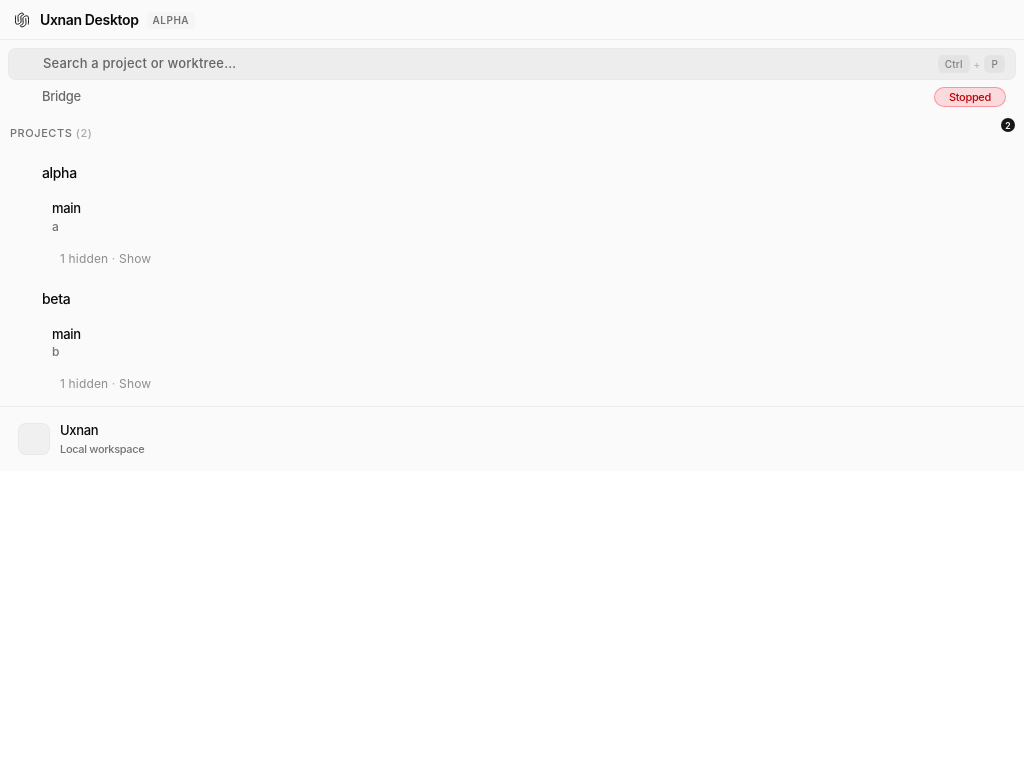
it: LeftSidebar — hidden worktrees › sets aside a worktree created outside Uxnan the same way, and shows it on request
This screenshot has width=1024, height=768.
Expected: the text "old" is not shown
Expected: the text "older" is not shown
# The per-project line is the same switch, with the same words.
Click the 1st button "1 hidden · Show".
click(86, 258)  # box [18, 246, 1010, 270]
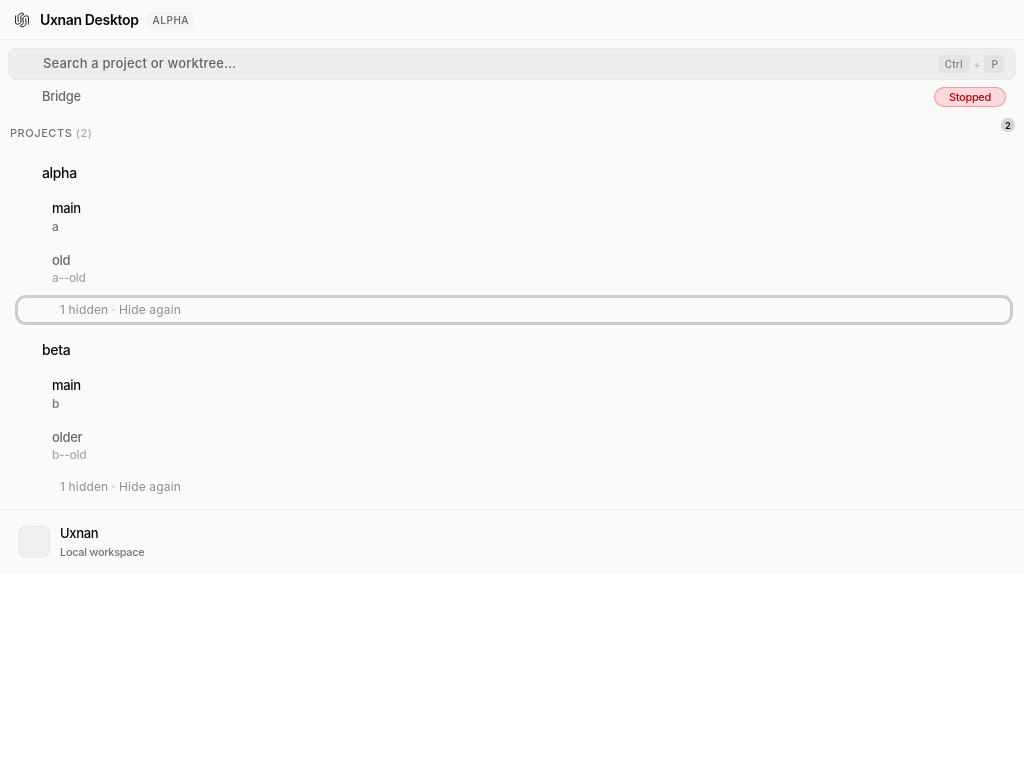
Now the text "old" is shown, box [52, 252, 70, 268]
